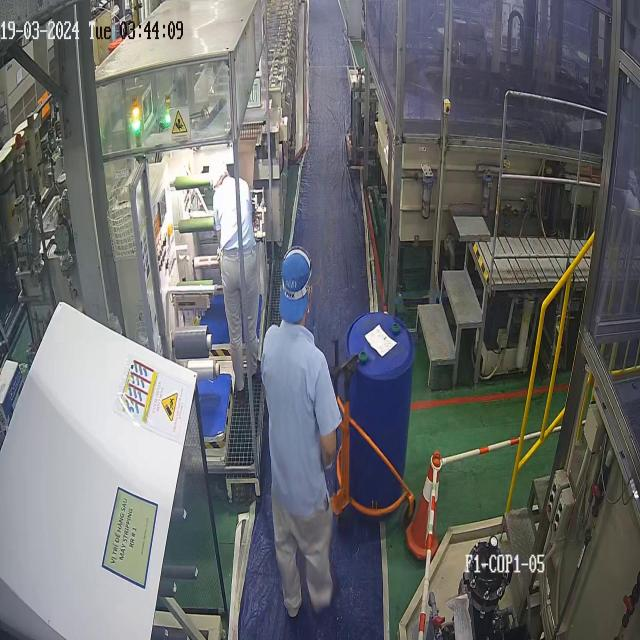Person: (260, 246, 342, 618), (208, 153, 260, 398)
